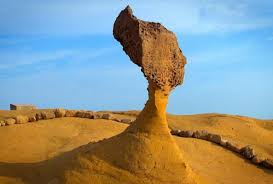yehliu: (104, 3, 200, 101)
